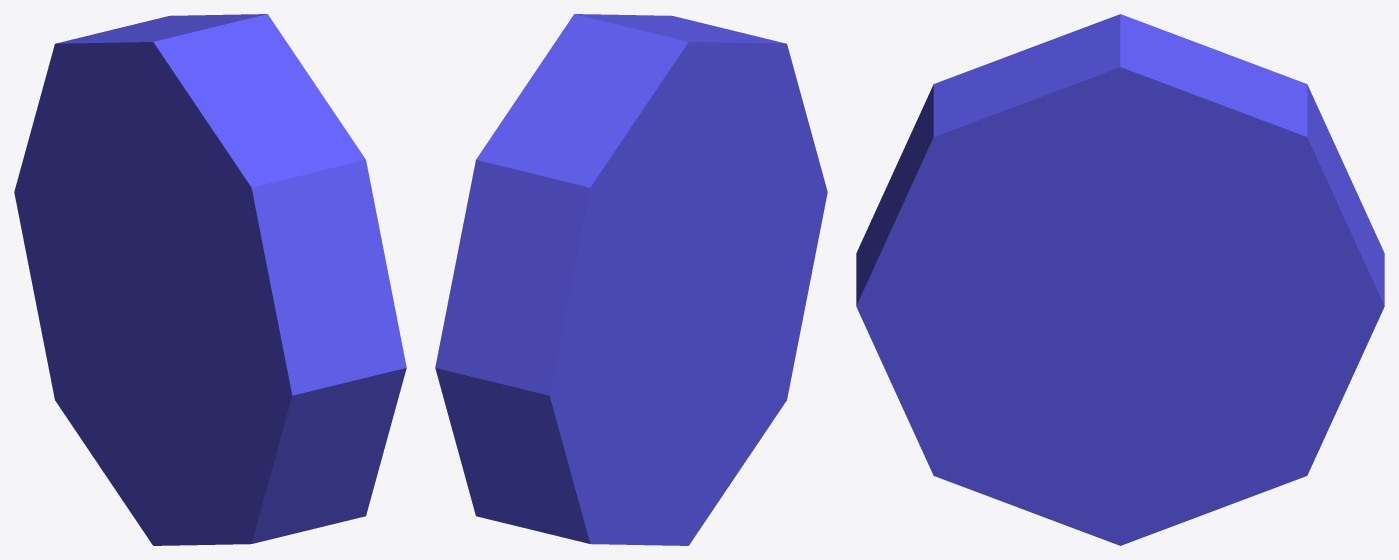
File: fridge_magnet_01.fbx
3 views of the same model, side by side, from view 1: azimuth 30°, elevation 25°; view 2: azimuth 150°, elevation 25°; view 3: azimuth 270°, elevation 25° (orthographic). The views are drawn at different scales.
Parts seen in each view (by area): view 1: Circle; view 2: Circle; view 3: Circle.
Boxes of the visible parts, x1,y1,x2,y2 form: Circle: [14, 14, 406, 545]; Circle: [435, 14, 827, 545]; Circle: [856, 14, 1384, 545].
Bounding box in the file's own units: 0.01 × 0.0421 × 0.0421.
